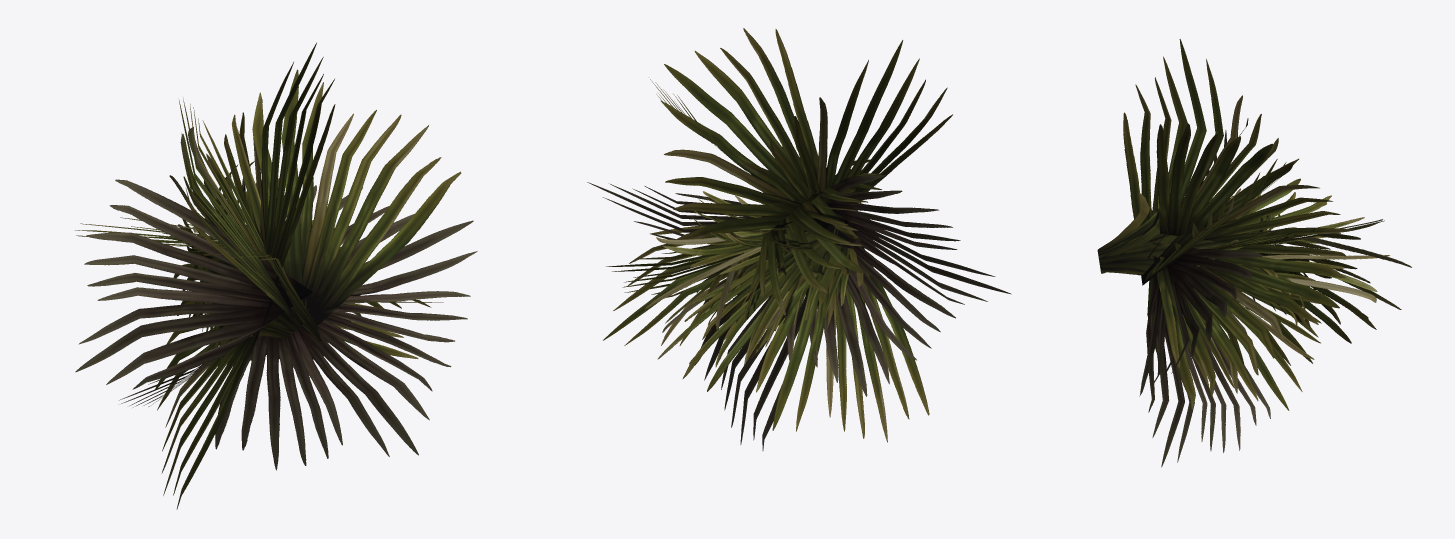
Rendered from MEP_Pandani_03.fbx.
3 views of the same model, side by side, from view 1: azimuth 30°, elevation 25°; view 2: azimuth 150°, elevation 25°; view 3: azimuth 270°, elevation 25° (orthographic). The views are drawn at different scales.
Parts seen in each view (by area): view 1: MEP_Pandani_03; view 2: MEP_Pandani_03; view 3: MEP_Pandani_03.
Part boxes in pixels (<box>): MEP_Pandani_03: <box>75,42,477,509</box>; MEP_Pandani_03: <box>587,28,1011,450</box>; MEP_Pandani_03: <box>1097,39,1411,467</box>.
Size of the model in its own units: 2.77 by 2.68 by 2.04.
